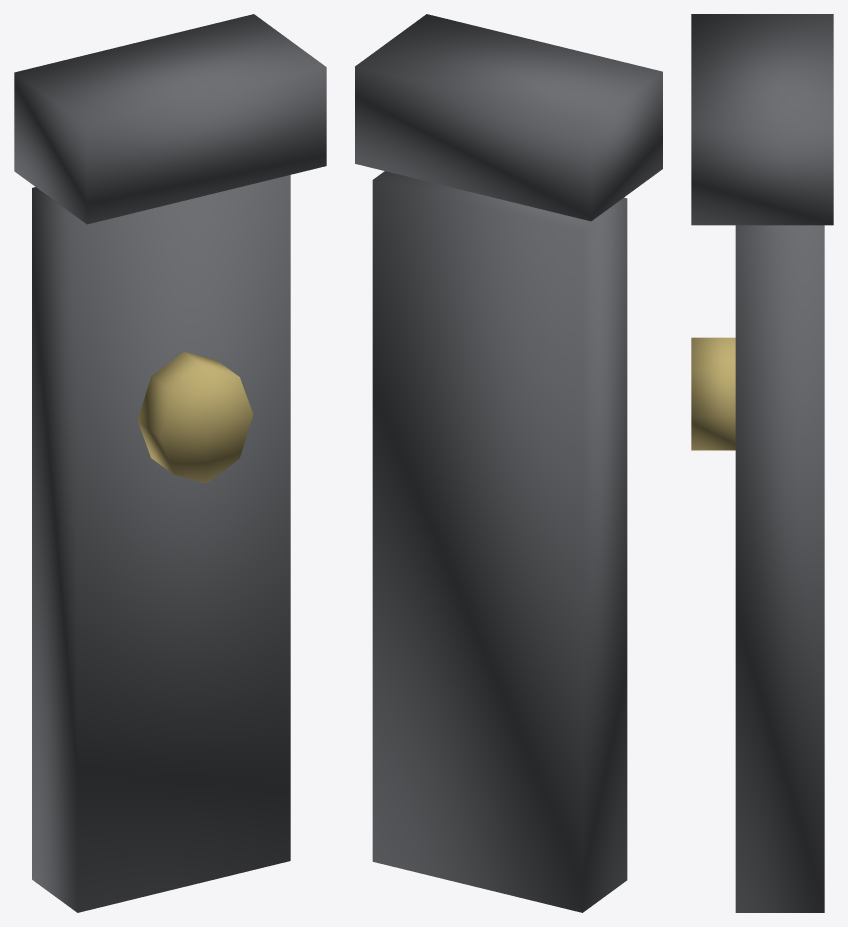
File: elevator_call_09.glb
The picture shows the model from 3 angles, left to right: view 1: azimuth 30°, elevation 25°; view 2: azimuth 150°, elevation 25°; view 3: azimuth 270°, elevation 25°; orthographic projection. The views are drawn at different scales.
Parts seen in each view (by area): view 1: world; view 2: world; view 3: world.
Part boxes in pixels (x1,y1,x2,y2): world: (14,14,326,912); world: (355,14,662,912); world: (691,14,833,912).
Size of the model in its own units: 0.1584 by 0.5096 by 0.0832.
